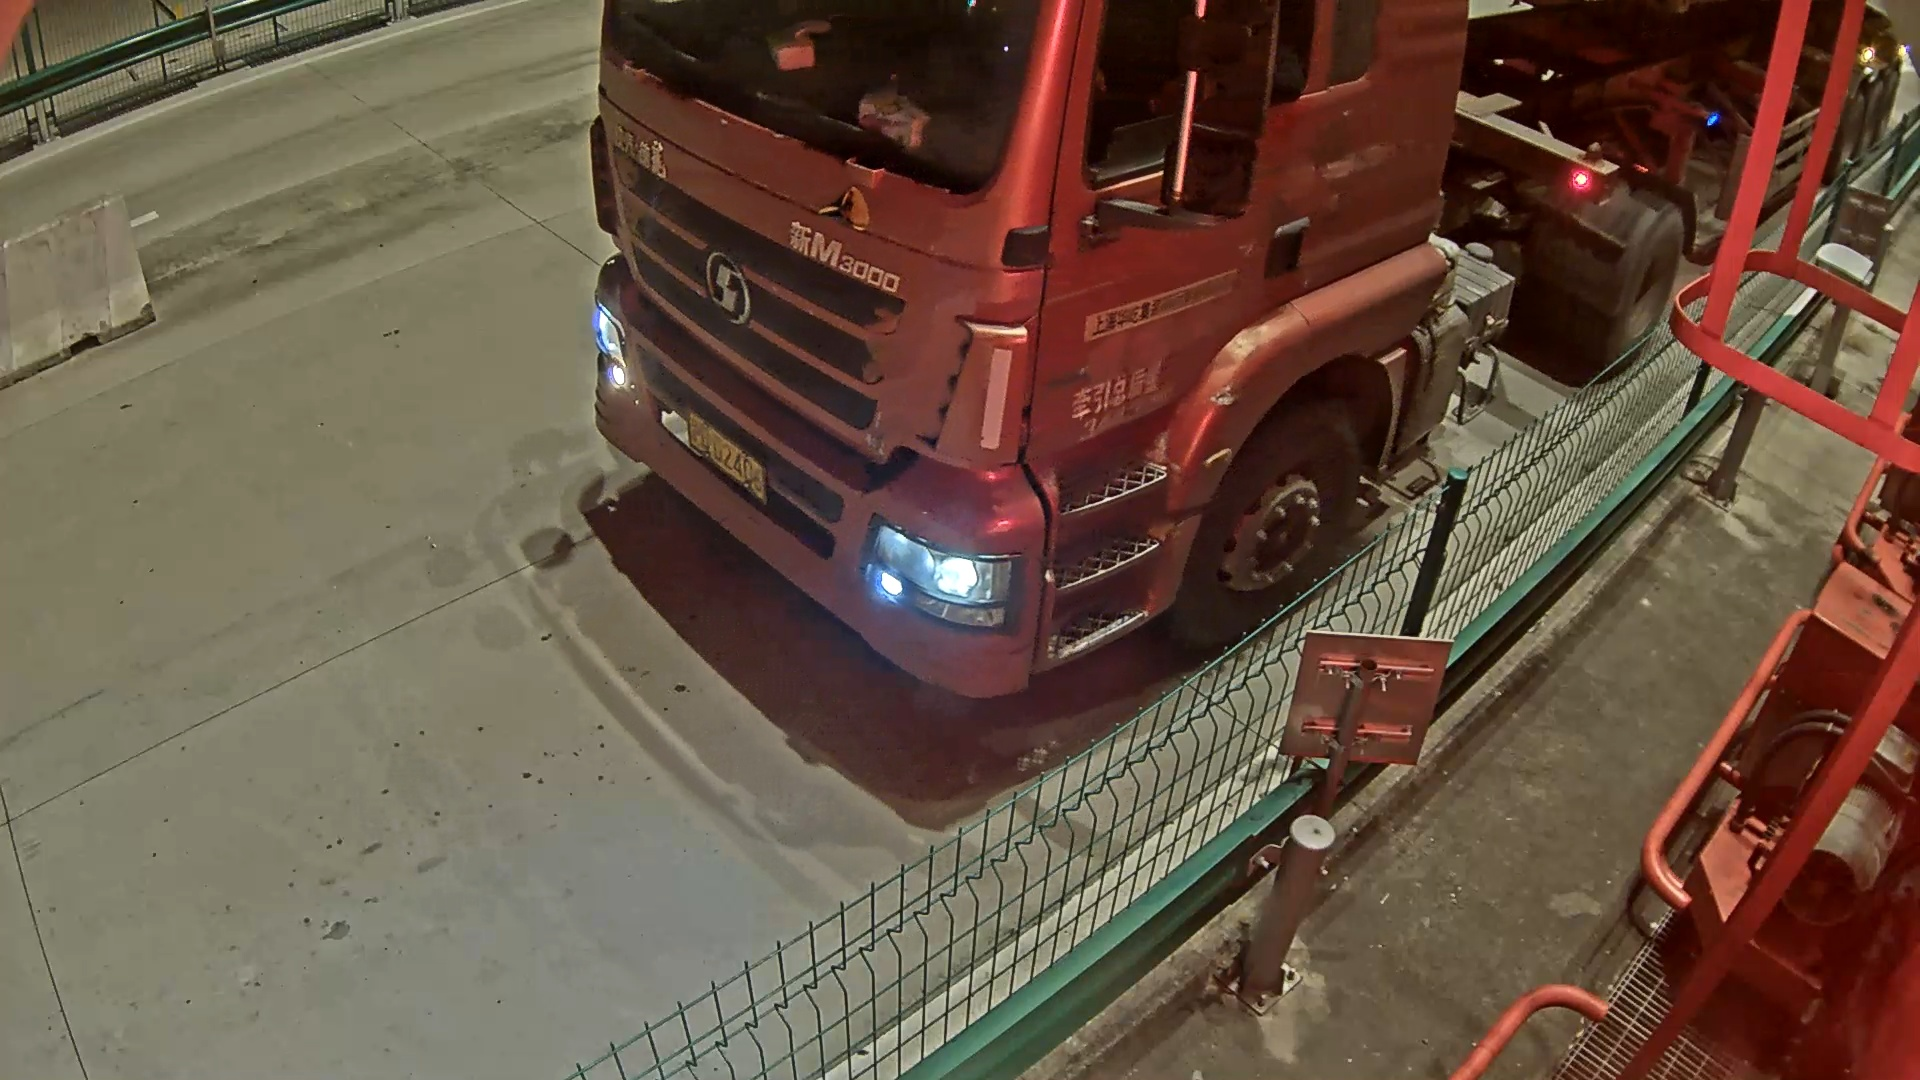head: (584, 19, 1105, 705)
plate: (691, 421, 770, 501)
